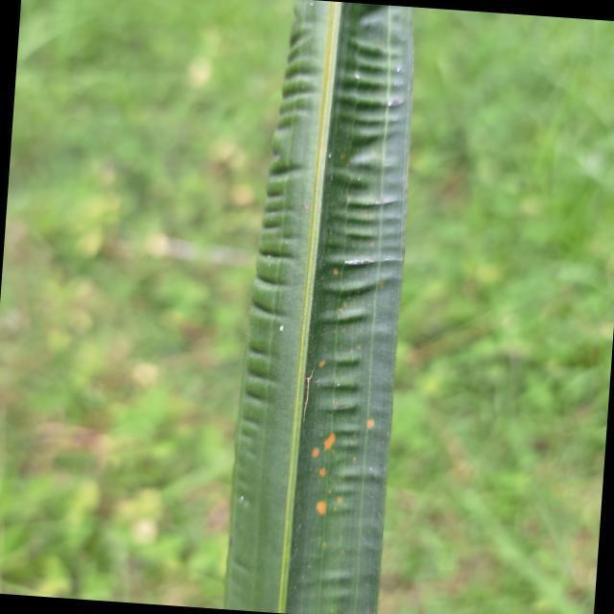Boron: (227, 0, 409, 614)
